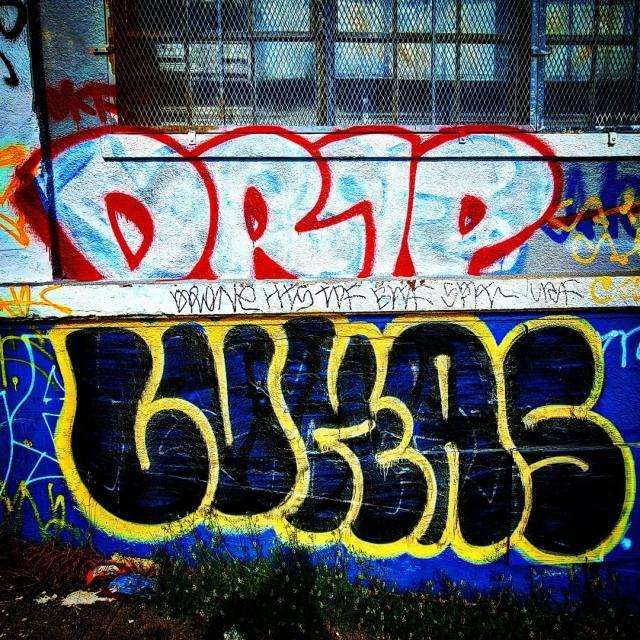-: (48, 308, 638, 581), (25, 111, 583, 307), (169, 280, 583, 315)
